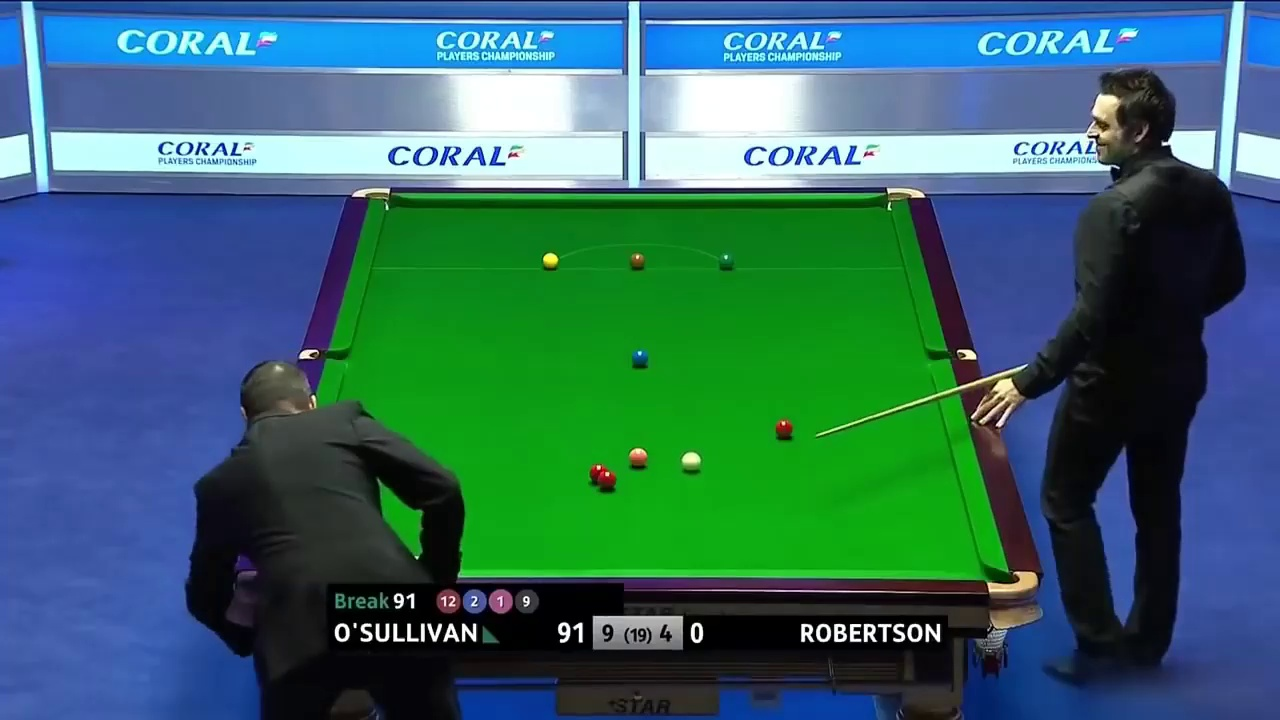ball: (627, 349, 650, 370), (627, 447, 650, 468), (773, 419, 795, 440), (681, 451, 702, 472), (541, 251, 560, 269), (717, 253, 735, 270), (629, 254, 645, 270)
